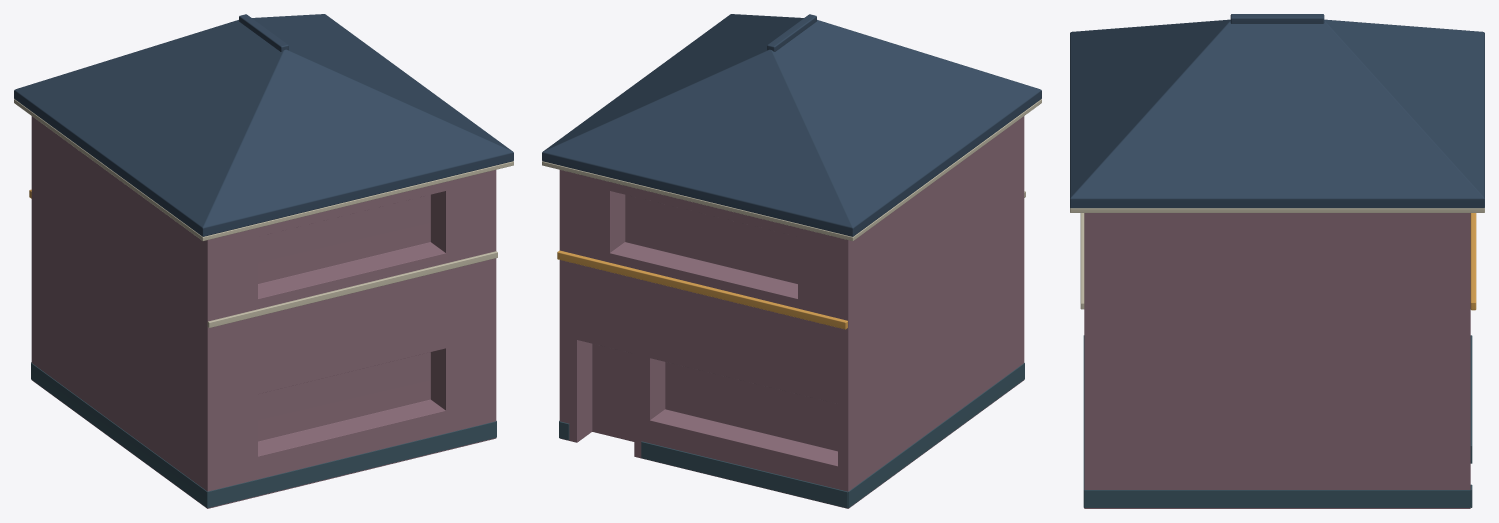
The model's file is d05_quay_frontages_03.glb.
The picture shows the model from 3 angles, left to right: view 1: azimuth 30°, elevation 25°; view 2: azimuth 150°, elevation 25°; view 3: azimuth 270°, elevation 25°; orthographic projection. The views are drawn at different scales.
Parts seen in each view (by area): view 1: D05QuayFrontages03_Mesh; view 2: D05QuayFrontages03_Mesh; view 3: D05QuayFrontages03_Mesh.
Boxes of the visible parts, box(x1,y1,x2,y2) form: D05QuayFrontages03_Mesh: box(14, 14, 513, 508); D05QuayFrontages03_Mesh: box(542, 14, 1041, 508); D05QuayFrontages03_Mesh: box(1070, 14, 1484, 508).
Size of the model in its own units: 7.76 by 9.03 by 8.16.
